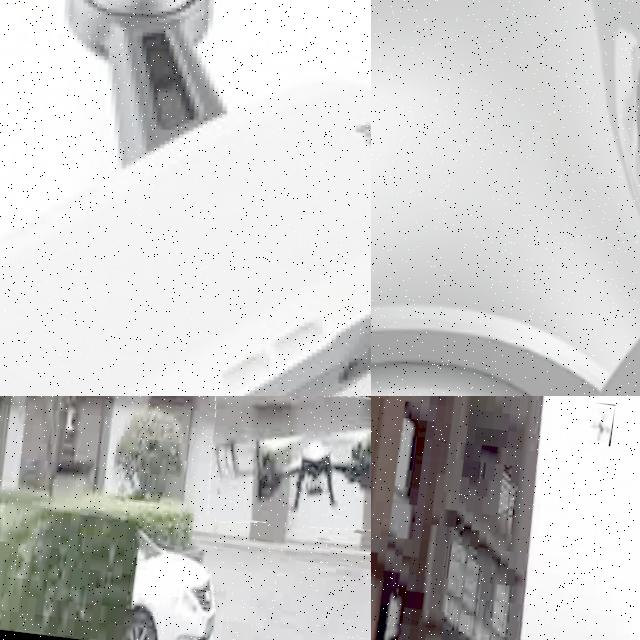0: (203, 396, 371, 540), (587, 402, 615, 446)
drone: (0, 0, 371, 396), (371, 0, 640, 396)
